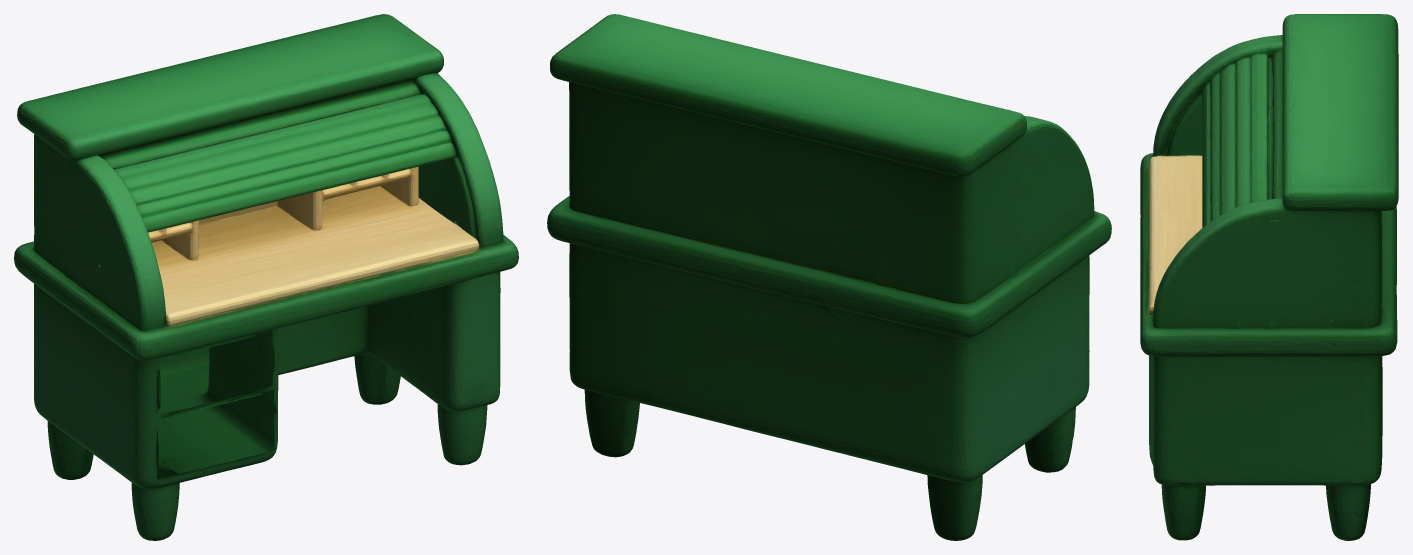
Rendered from desk_body.glb.
3 renders of one model, left to right at view 1: azimuth 30°, elevation 25°; view 2: azimuth 150°, elevation 25°; view 3: azimuth 270°, elevation 25°, orthographic. The views are drawn at different scales.
Parts seen in each view (by area): view 1: source_surface_0; view 2: source_surface_0; view 3: source_surface_0.
Boxes of the visible parts, <box> form: source_surface_0: <box>14,14,518,540</box>; source_surface_0: <box>547,14,1111,540</box>; source_surface_0: <box>1140,14,1398,540</box>.
Bounding box in the file's own units: 0.6 × 0.5419 × 0.3505.
Materials: 1 (1 with a texture image).
